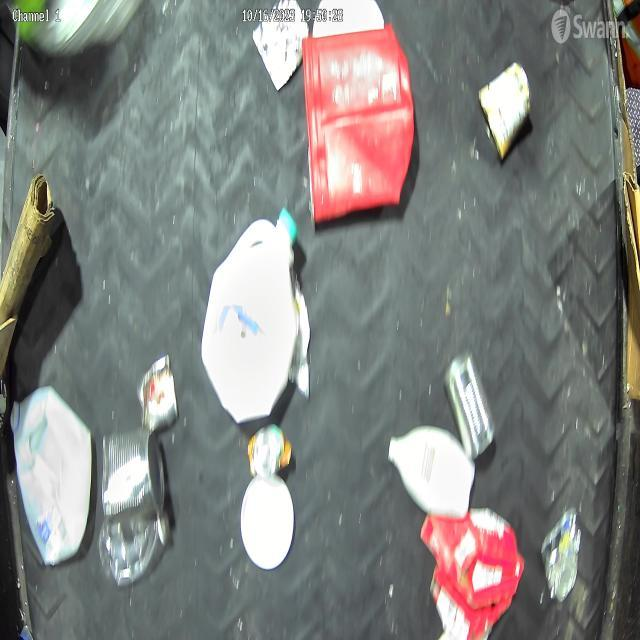can: (442, 354, 498, 460), (100, 429, 168, 516), (478, 64, 536, 164), (245, 424, 293, 476)
milk_jug: (196, 209, 314, 423), (7, 381, 92, 576)
non_white_jug: (302, 25, 416, 219)
plastic_bottle: (98, 518, 174, 592)
